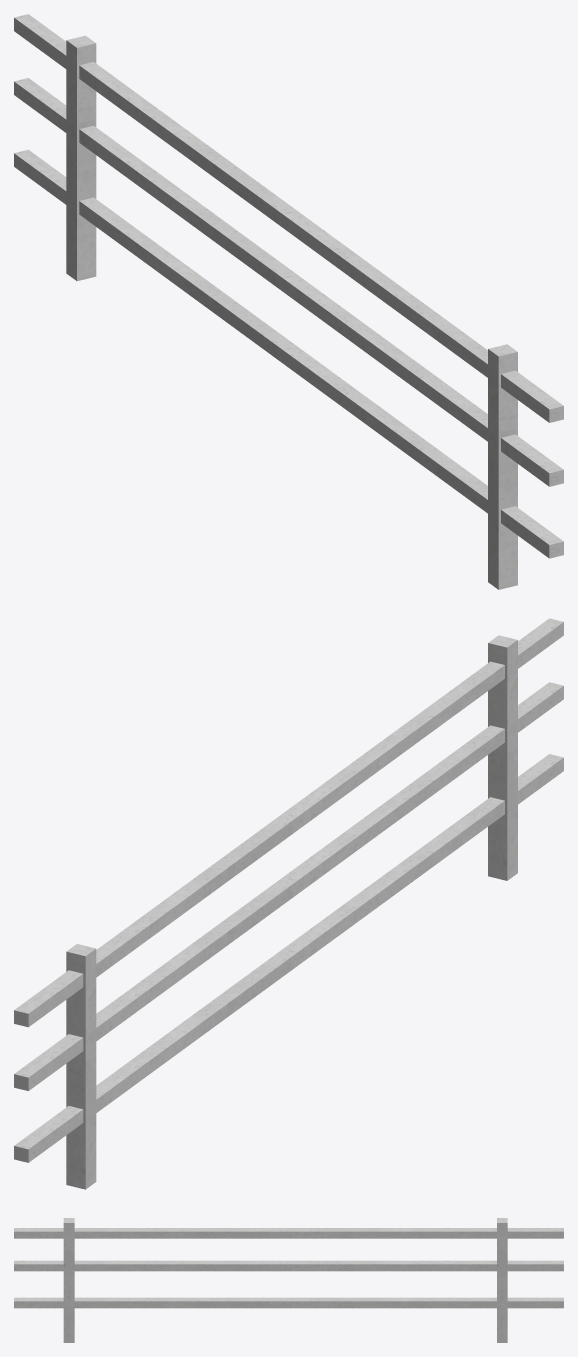
Rendered from MB_Parapet_C_4m.fbx.
3 renders of one model, top to bottom at view 1: azimuth 30°, elevation 25°; view 2: azimuth 150°, elevation 25°; view 3: azimuth 270°, elevation 25°, orthographic. The views are drawn at different scales.
Visible parts, largest first — view 1: MB_Parapet_4m_C; view 2: MB_Parapet_4m_C; view 3: MB_Parapet_4m_C.
Boxes of the visible parts, box(x1,y1,x2,y2) form: MB_Parapet_4m_C: box(14, 14, 563, 589); MB_Parapet_4m_C: box(14, 618, 563, 1189); MB_Parapet_4m_C: box(14, 1218, 563, 1342).
Bounding box in the file's own units: 8.27 × 96.19 × 400.
